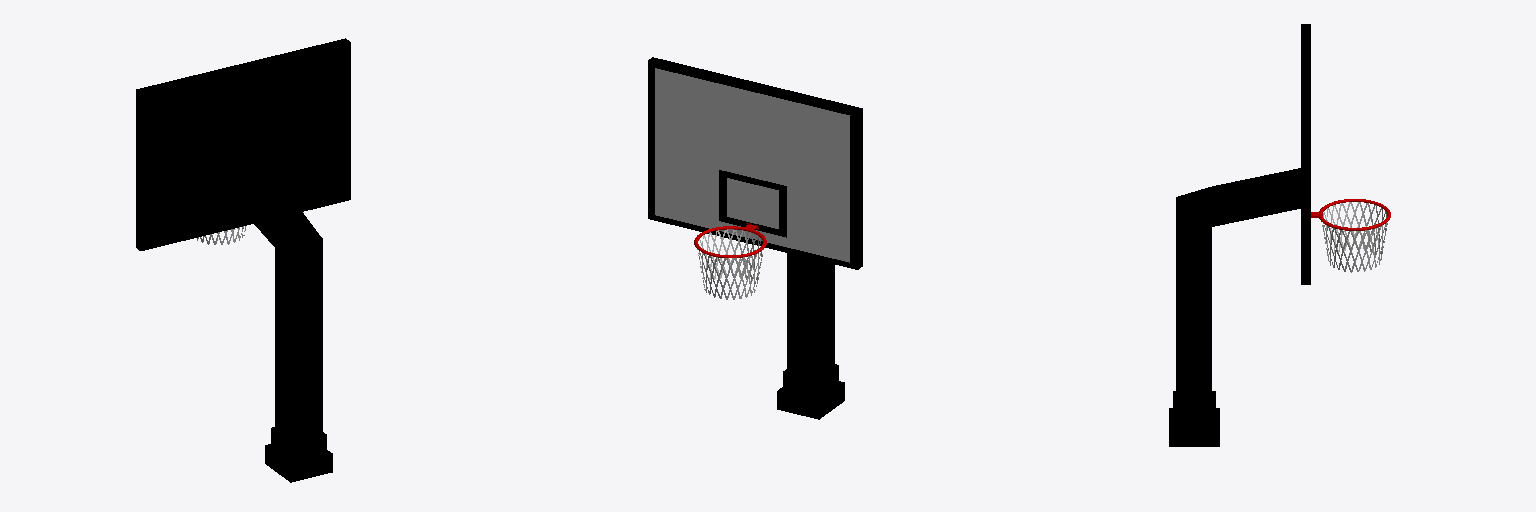
Rendered from Basket_hoop.obj.
3 renders of one model, left to right at view 1: azimuth 30°, elevation 25°; view 2: azimuth 150°, elevation 25°; view 3: azimuth 270°, elevation 25°, orthographic.
Visible parts, largest first — view 1: Cube_Cube.001; view 2: Cube_Cube.001; view 3: Cube_Cube.001.
Part boxes in pixels (left/top/right/bottom): Cube_Cube.001: left=136, top=38, right=350, bottom=482; Cube_Cube.001: left=648, top=57, right=862, bottom=419; Cube_Cube.001: left=1169, top=24, right=1390, bottom=446.
Bounding box in the file's own units: 2.78 × 4.57 × 2.55.